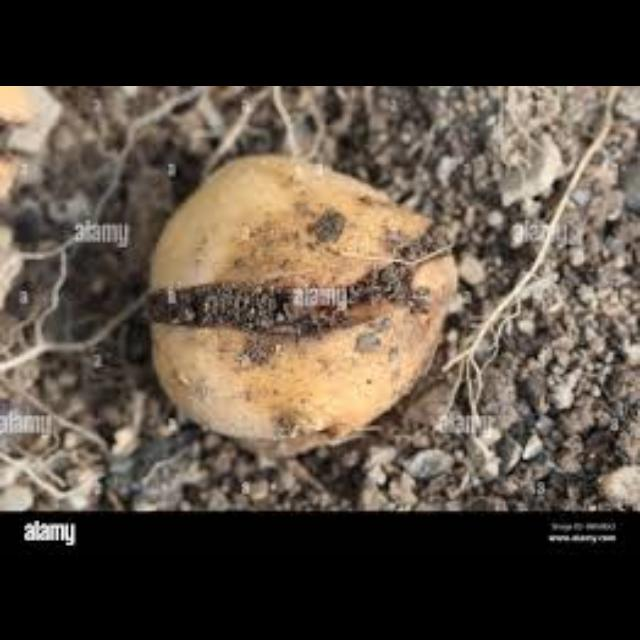Damaged potato: (138, 152, 456, 460)
